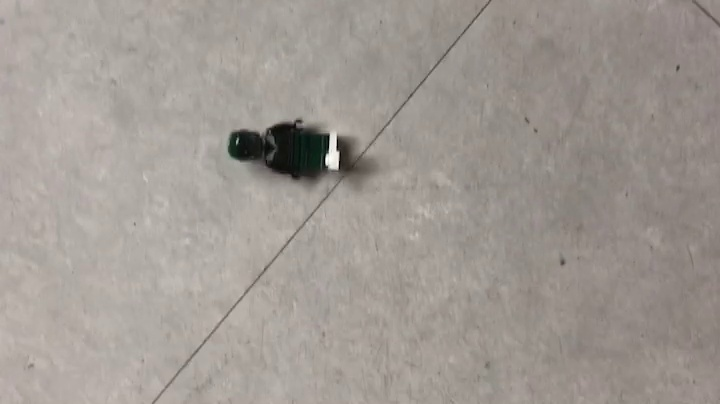people: (225, 117, 347, 183)
